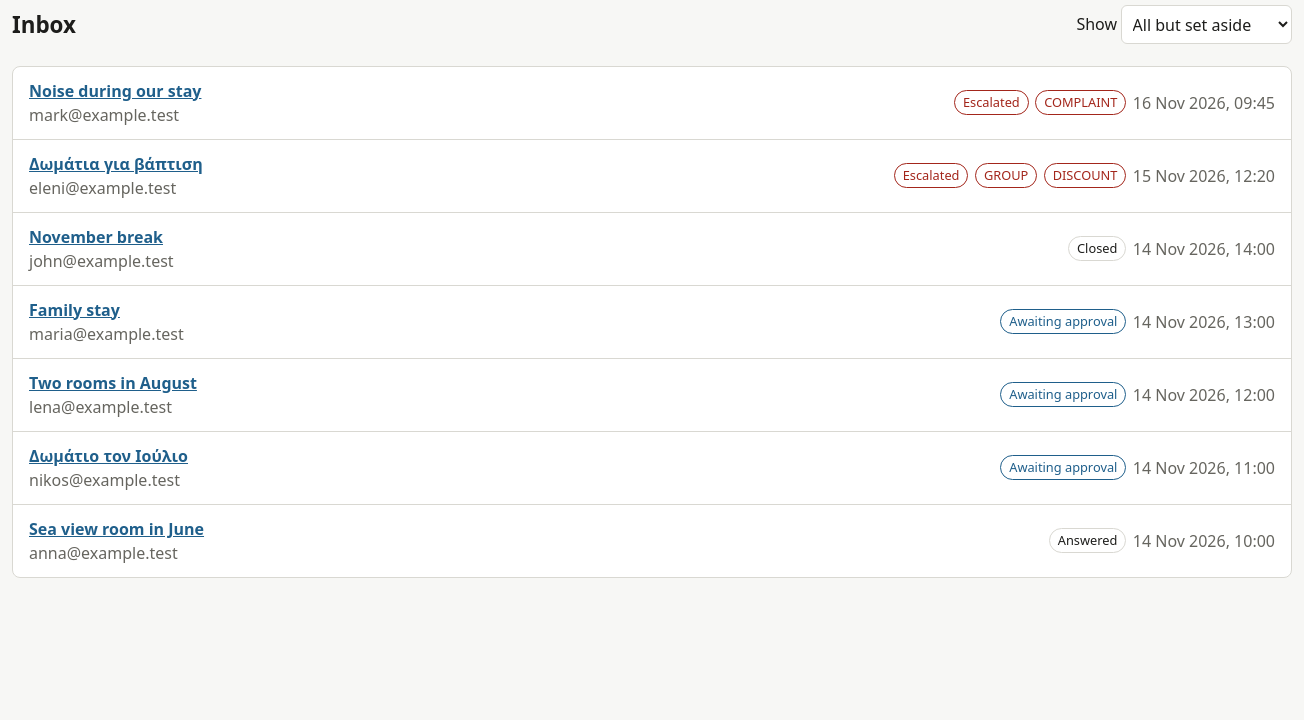
Test: Inbox › the set-aside filter asks the API for set-aside emails only (D50)
Select "Set aside" in the dropdown labelled "Show": x=1207, y=25 [1121,5,1292,44]
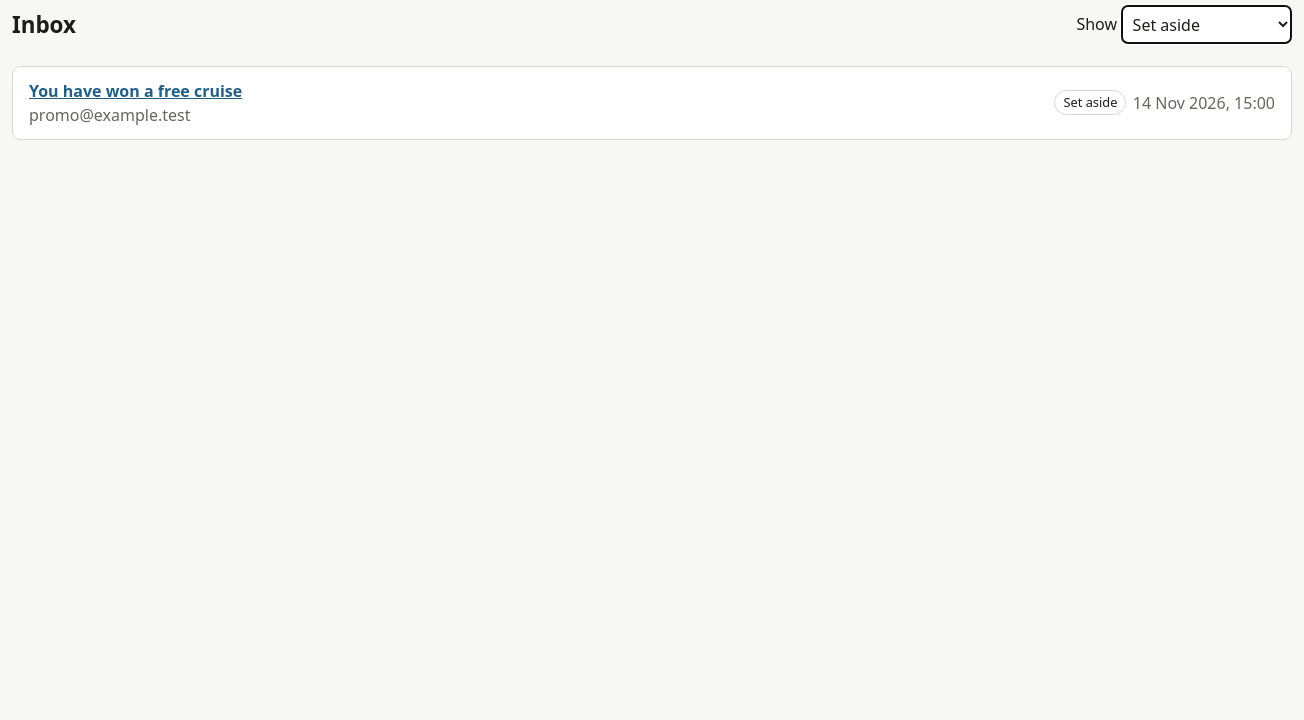
Now the link "You have won a free cruise" is shown, box [29,79,242,103]
Now the number of list items is 1, box [13,67,1291,139]
